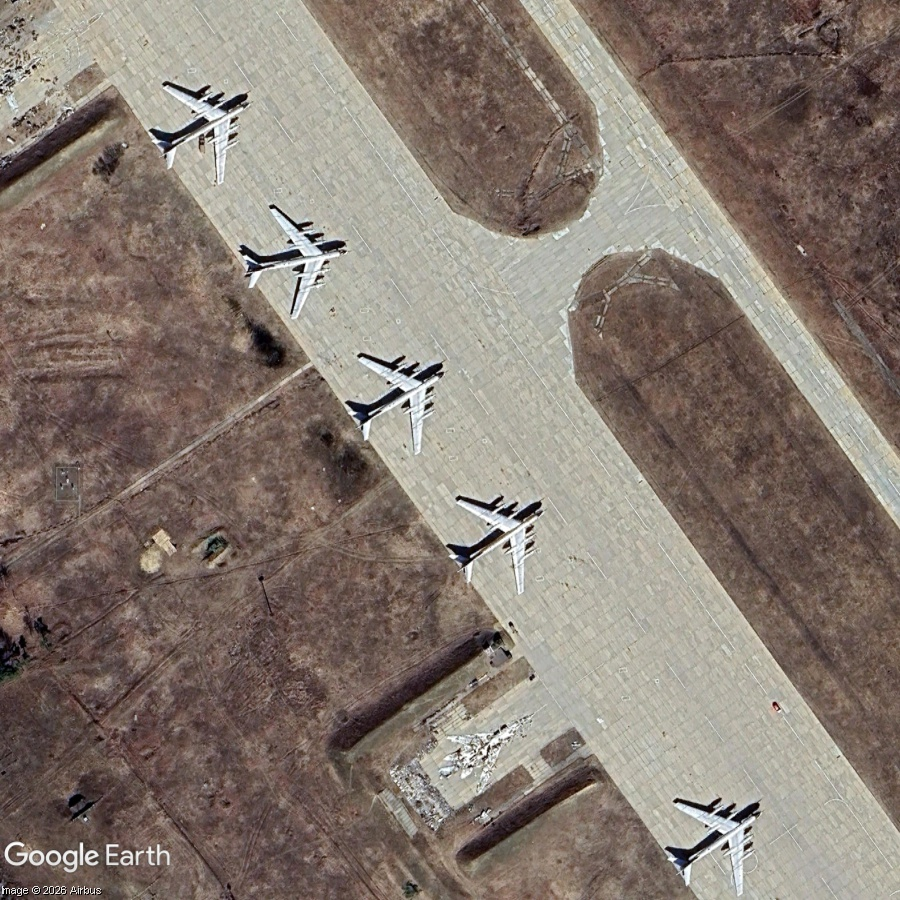Máy bay ném bom: (419, 459, 580, 621), (321, 320, 478, 479), (125, 48, 281, 207), (637, 761, 798, 900), (226, 189, 362, 330)
